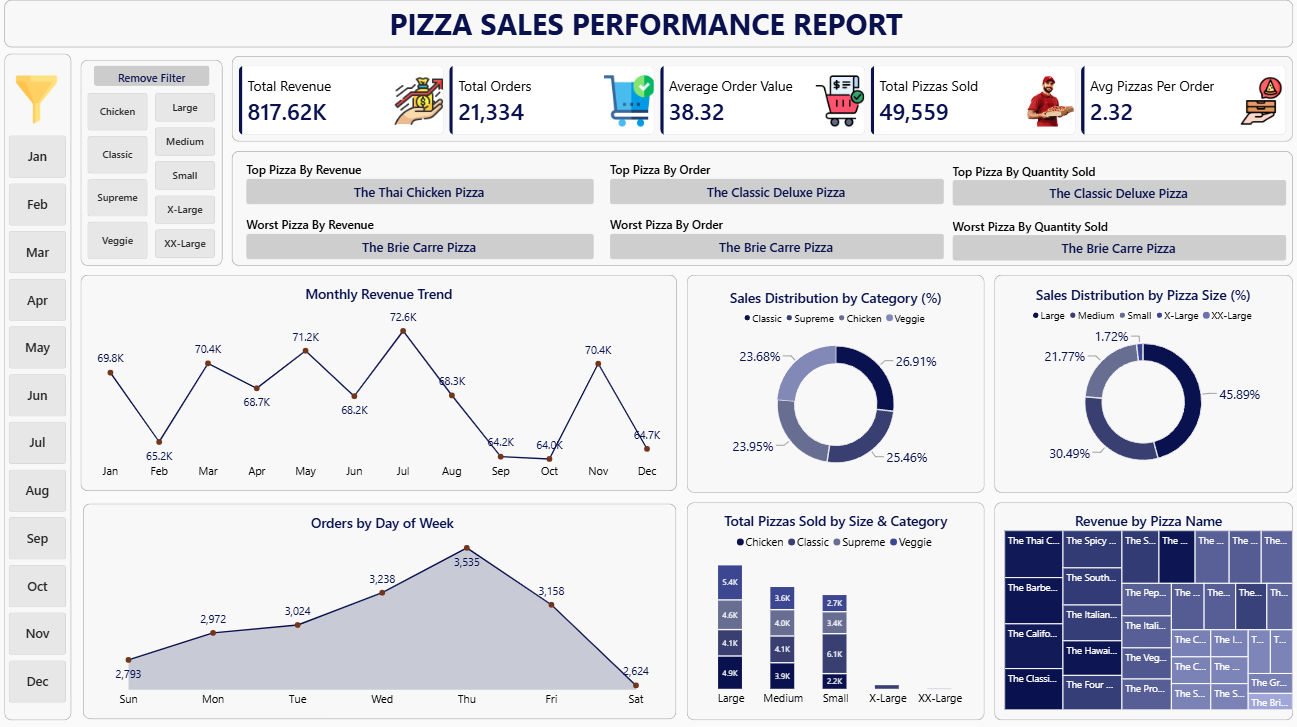

The page's visual inventory and layout, read from the dashboard file:
{"tool":"powerbi","page":{"name":"DASHBOARD","canvas":[1920,1080],"ordinal":0},"visuals":[{"type":"shape","box":[12.9,10,1892.9,71.4],"z":0,"group":"g1"},{"type":"group","id":"g1","title":"Group 1","box":[12.9,10,1892.9,1058.6],"z":0},{"type":"advancedSlicerVisual","title":"Top Pizza By Revenue","fields":{"Values":["PIZZA SALES.pizza_name"]},"box":[368.6,247.6,510,62.9],"z":0,"group":"g2"},{"type":"shape","box":[13.2,88,100,980],"z":1000,"group":"g1"},{"type":"cardVisual","fields":{"Data":["PIZZA SALES.Total Revenue","PIZZA SALES.Total Orders","PIZZA SALES.Average Order Value","PIZZA SALES.Total Pizzas Sold","PIZZA SALES.Avg Pizzas Per Order"]},"box":[357.1,107.1,1537.1,102.9],"z":1000},{"type":"advancedSlicerVisual","title":"Worst Pizza By Revenue","fields":{"Values":["PIZZA SALES.pizza_name"]},"box":[368.6,329,510,62.9],"z":1000,"group":"g2"},{"type":"shape","box":[125.2,98,210,304],"z":2000,"group":"g1"},{"type":"lineChart","title":"Monthly Revenue Trend","fields":{"Category":["PIZZA SALES.Month Name"],"Y":["PIZZA SALES.Total Revenue"]},"box":[125.6,413.3,876.7,322.2],"z":2000},{"type":"shape","box":[124.2,413.3,876.7,318.9],"z":3000,"group":"g1"},{"type":"lineChart","title":"Orders by Day of Week","fields":{"Category":["PIZZA SALES.Day Name"],"Y":["PIZZA SALES.Total Orders"]},"box":[130,748,876,320],"z":3000},{"type":"donutChart","title":"Sales Distribution by Category (%)","fields":{"Category":["PIZZA SALES.pizza_category"],"Y":["PIZZA SALES.Total Revenue"]},"box":[1014.3,418.6,438.6,314.3],"z":4000},{"type":"shape","box":[129.2,750,872,318],"z":4000,"group":"g1"},{"type":"shape","box":[1014.3,414.3,438.6,321.4],"z":5000,"group":"g1"},{"type":"donutChart","title":"Sales Distribution by Pizza Size (%)","fields":{"Category":["PIZZA SALES.pizza_size"],"Y":["PIZZA SALES.Total Revenue"]},"box":[1465.7,414.3,438.6,314.3],"z":5000},{"type":"shape","box":[1465.8,414.3,440,321.4],"z":6000,"group":"g1"},{"type":"columnChart","title":"Total Pizzas Sold by Size & Category","fields":{"Category":["PIZZA SALES.pizza_size"],"Series":["PIZZA SALES.pizza_category"],"Y":["PIZZA SALES.Total Pizzas Sold"]},"box":[1014.3,747.1,438.6,321.4],"z":6000},{"type":"shape","box":[347.2,92.9,1558.6,127.1],"z":7000,"group":"g1"},{"type":"treemap","title":"Revenue by Pizza Name","fields":{"Group":["PIZZA SALES.pizza_name"],"Values":["PIZZA SALES.Total Revenue"]},"box":[1465.7,747.1,454.3,321.4],"z":7000},{"type":"shape","box":[347.2,232.9,1558.6,170],"z":8000,"group":"g1"},{"type":"advancedSlicerVisual","title":"Top Pizza By Order","fields":{"Values":["PIZZA SALES.pizza_name"]},"box":[902.9,247.8,490,62.9],"z":8000},{"type":"advancedSlicerVisual","title":"Worst Pizza By Order","fields":{"Values":["PIZZA SALES.pizza_name"]},"box":[902.9,329.2,490,62.9],"z":9000},{"type":"shape","box":[1014.3,747.1,438.6,321.4],"z":9000,"group":"g1"},{"type":"group","id":"g2","title":"Group 3","box":[368.6,247.6,510,144.3],"z":10000},{"type":"shape","box":[1465.8,747.1,440,321.4],"z":10000,"group":"g1"},{"type":"advancedSlicerVisual","title":"Top Pizza By Quantity Sold","fields":{"Values":["PIZZA SALES.pizza_name"]},"box":[1404.3,249,490,62.9],"z":11000},{"type":"advancedSlicerVisual","title":"Worst Pizza By Quantity Sold","fields":{"Values":["PIZZA SALES.pizza_name"]},"box":[1404.3,330.4,490,62.9],"z":12000},{"type":"advancedSlicerVisual","fields":{"Values":["PIZZA SALES.Month Name"]},"box":[21,210,84,842],"z":13000},{"type":"advancedSlicerVisual","fields":{"Values":["PIZZA SALES.pizza_category"]},"box":[136.5,147.5,88.5,246],"z":14000},{"type":"advancedSlicerVisual","fields":{"Values":["PIZZA SALES.pizza_size"]},"box":[235.5,147.5,88.5,246],"z":15000},{"type":"actionButton","box":[144.3,107.1,170,30],"z":15001},{"type":"image","box":[17.1,121.4,88.6,70],"z":15002},{"type":"textbox","box":[10,8,1892.9,71.4],"z":15003},{"type":"textbox","box":[105.7,21.4,184.3,47.1],"z":15006}]}

Visuals, with their boxes in screenshot pixels (x1, y1, x2, y2), scaled from the page's 1920x1080 canvas onto the 1297x727 screenshot:
shape: {"x1": 9, "y1": 7, "x2": 1287, "y2": 55}
"Group 1" group: {"x1": 9, "y1": 7, "x2": 1287, "y2": 719}
"Top Pizza By Revenue" advancedSlicerVisual: {"x1": 249, "y1": 167, "x2": 594, "y2": 209}
shape: {"x1": 9, "y1": 59, "x2": 76, "y2": 719}
cardVisual - PIZZA SALES.Total Revenue x PIZZA SALES.Total Orders: {"x1": 241, "y1": 72, "x2": 1280, "y2": 141}
"Worst Pizza By Revenue" advancedSlicerVisual: {"x1": 249, "y1": 221, "x2": 594, "y2": 264}
shape: {"x1": 85, "y1": 66, "x2": 226, "y2": 271}
"Monthly Revenue Trend" lineChart: {"x1": 85, "y1": 278, "x2": 677, "y2": 495}
shape: {"x1": 84, "y1": 278, "x2": 676, "y2": 493}
"Orders by Day of Week" lineChart: {"x1": 88, "y1": 504, "x2": 680, "y2": 719}
"Sales Distribution by Category (%)" donutChart: {"x1": 685, "y1": 282, "x2": 981, "y2": 493}
shape: {"x1": 87, "y1": 505, "x2": 676, "y2": 719}
shape: {"x1": 685, "y1": 279, "x2": 981, "y2": 495}
"Sales Distribution by Pizza Size (%)" donutChart: {"x1": 990, "y1": 279, "x2": 1286, "y2": 490}
shape: {"x1": 990, "y1": 279, "x2": 1287, "y2": 495}
"Total Pizzas Sold by Size & Category" columnChart: {"x1": 685, "y1": 503, "x2": 981, "y2": 719}
shape: {"x1": 235, "y1": 63, "x2": 1287, "y2": 148}
"Revenue by Pizza Name" treemap: {"x1": 990, "y1": 503, "x2": 1296, "y2": 719}
shape: {"x1": 235, "y1": 157, "x2": 1287, "y2": 271}
"Top Pizza By Order" advancedSlicerVisual: {"x1": 610, "y1": 167, "x2": 941, "y2": 209}
"Worst Pizza By Order" advancedSlicerVisual: {"x1": 610, "y1": 222, "x2": 941, "y2": 264}
shape: {"x1": 685, "y1": 503, "x2": 981, "y2": 719}
"Group 3" group: {"x1": 249, "y1": 167, "x2": 594, "y2": 264}
shape: {"x1": 990, "y1": 503, "x2": 1287, "y2": 719}
"Top Pizza By Quantity Sold" advancedSlicerVisual: {"x1": 949, "y1": 168, "x2": 1280, "y2": 210}
"Worst Pizza By Quantity Sold" advancedSlicerVisual: {"x1": 949, "y1": 222, "x2": 1280, "y2": 265}
advancedSlicerVisual - PIZZA SALES.Month Name: {"x1": 14, "y1": 141, "x2": 71, "y2": 708}
advancedSlicerVisual - PIZZA SALES.pizza_category: {"x1": 92, "y1": 99, "x2": 152, "y2": 265}
advancedSlicerVisual - PIZZA SALES.pizza_size: {"x1": 159, "y1": 99, "x2": 219, "y2": 265}
actionButton: {"x1": 97, "y1": 72, "x2": 212, "y2": 92}
image: {"x1": 12, "y1": 82, "x2": 71, "y2": 129}
textbox: {"x1": 7, "y1": 5, "x2": 1285, "y2": 53}
textbox: {"x1": 71, "y1": 14, "x2": 196, "y2": 46}
